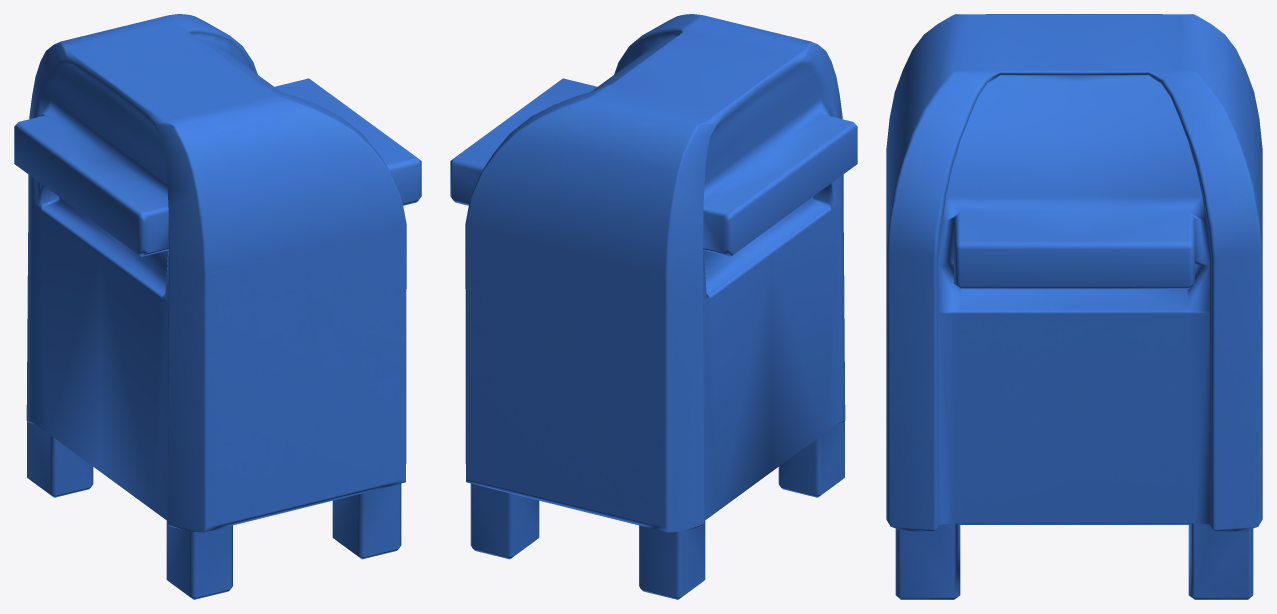
The model's file is mailbox.glb.
3 views of the same model, side by side, from view 1: azimuth 30°, elevation 25°; view 2: azimuth 150°, elevation 25°; view 3: azimuth 270°, elevation 25° (orthographic). The views are drawn at different scales.
Visible parts, largest first — view 1: tripo_node_cdafd21d-6843-48a1-b8e1-660c13500f59; view 2: tripo_node_cdafd21d-6843-48a1-b8e1-660c13500f59; view 3: tripo_node_cdafd21d-6843-48a1-b8e1-660c13500f59.
Boxes of the visible parts, left/top/right/bottom form: tripo_node_cdafd21d-6843-48a1-b8e1-660c13500f59: left=14, top=14, right=421, bottom=599; tripo_node_cdafd21d-6843-48a1-b8e1-660c13500f59: left=450, top=14, right=857, bottom=599; tripo_node_cdafd21d-6843-48a1-b8e1-660c13500f59: left=886, top=14, right=1262, bottom=599.
Size of the model in its own units: 0.6699 by 0.998 by 0.7051.
Materials: 1 (1 with a texture image).
